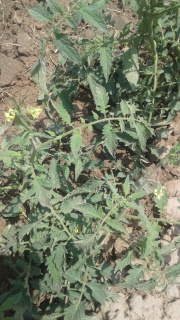tomato flower: (19, 98, 44, 121), (2, 96, 21, 125)
tomato plant: (3, 122, 142, 295), (33, 2, 180, 130)
